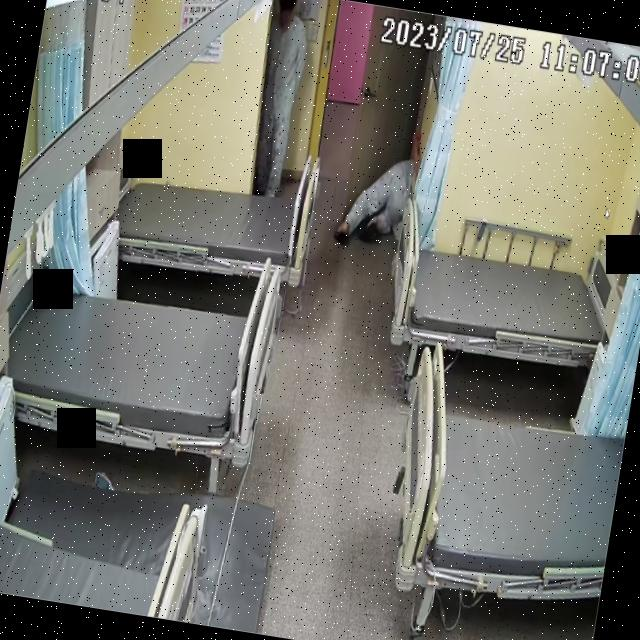bed: (380, 340, 636, 616), (0, 270, 278, 462), (379, 224, 629, 378), (113, 160, 314, 286)
fall: (336, 150, 418, 254)
patient: (246, 0, 311, 197), (334, 148, 419, 258)
stand: (244, 0, 310, 196)
